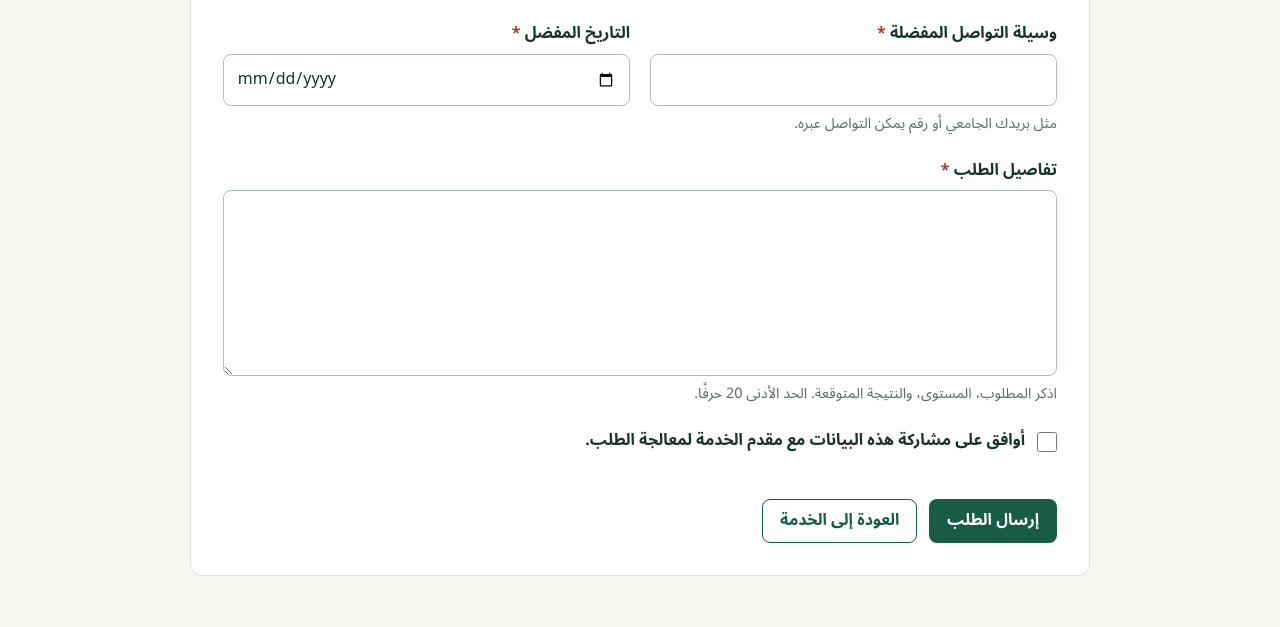
Test case: نموذج الطلب المبسط › لا يرسل البيانات الناقصة إلى Firebase
The width and height of the screenshot is (1280, 627).
(page scrolled)
Click the button "إرسال الطلب" at (993, 521), box [929, 499, 1057, 543]
(page scrolled)
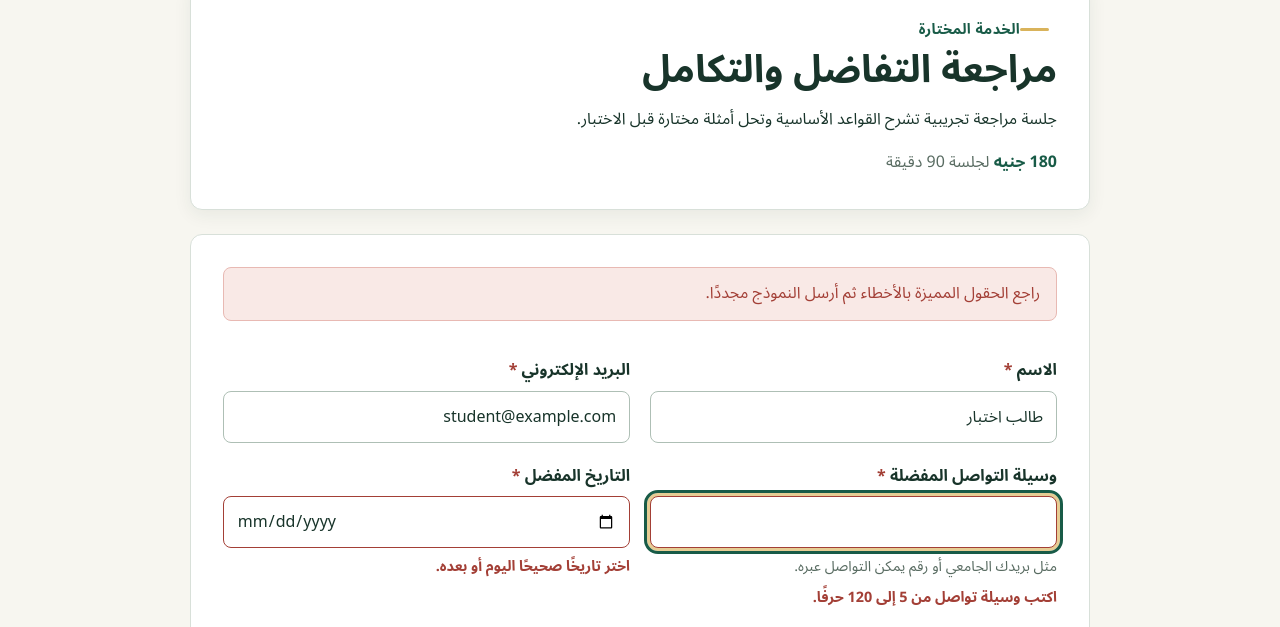
Result: the text "راجع الحقول المميزة بالأخطاء ثم أرسل النموذج مجددًا." is shown at [223, 266, 1057, 321]
